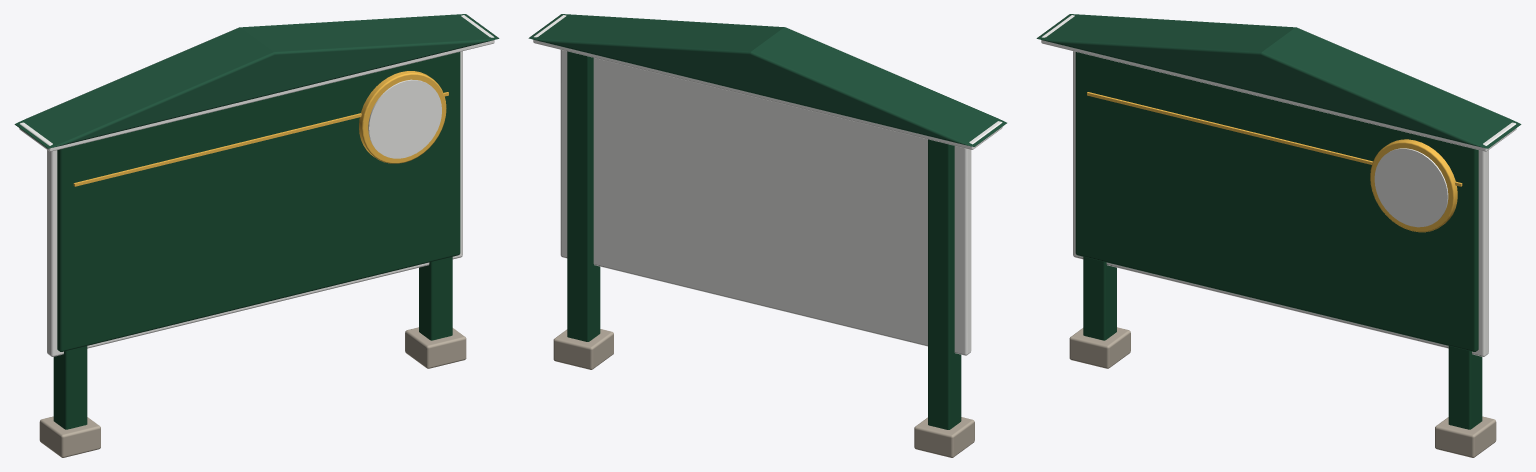
The model's file is SkorTabelasi.fbx.
3 views of the same model, side by side, from view 1: azimuth 30°, elevation 25°; view 2: azimuth 150°, elevation 25°; view 3: azimuth 330°, elevation 25° (orthographic).
Visible parts, largest first — view 1: SkorTabelasi_Model; view 2: SkorTabelasi_Model; view 3: SkorTabelasi_Model.
Boxes of the visible parts, box(x1,y1,x2,y2) form: SkorTabelasi_Model: box(14, 14, 499, 457); SkorTabelasi_Model: box(528, 14, 1006, 457); SkorTabelasi_Model: box(1036, 14, 1521, 457).
Bounding box in the file's own units: 10.14 × 7.82 × 1.4.
